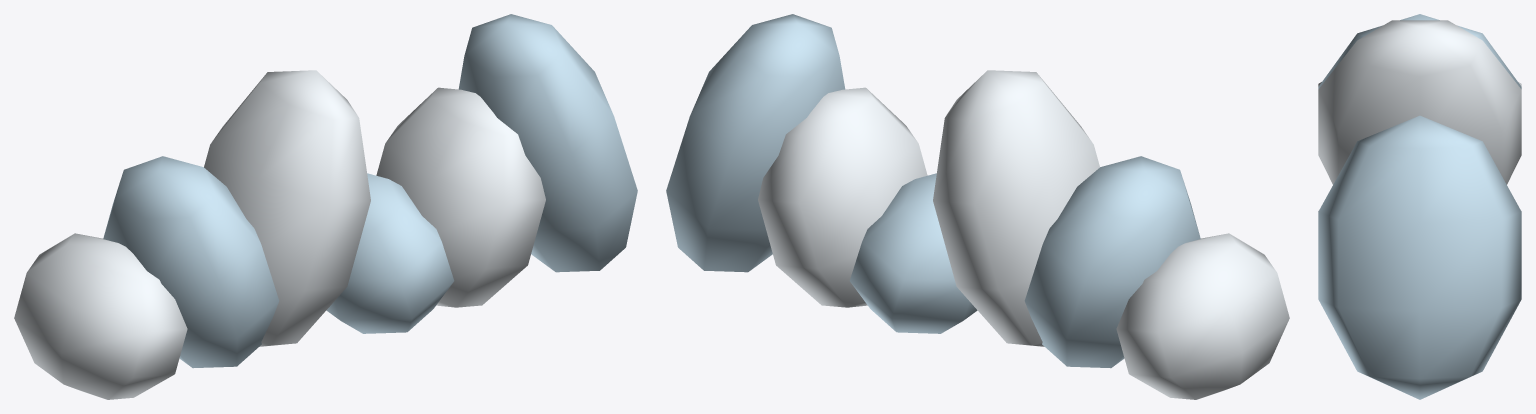
Rendered from polar-tundra-and-alpine-fauna-pressure-ridge-eb42de38__6085.glb.
3 renders of one model, left to right at view 1: azimuth 30°, elevation 25°; view 2: azimuth 150°, elevation 25°; view 3: azimuth 270°, elevation 25°, orthographic. The views are drawn at different scales.
Visible parts, largest first — view 1: pressure-ridge; view 2: pressure-ridge; view 3: pressure-ridge.
Boxes of the visible parts, box(x1,y1,x2,y2) form: pressure-ridge: box(14, 14, 637, 399); pressure-ridge: box(666, 14, 1289, 399); pressure-ridge: box(1318, 14, 1521, 399).
Size of the model in its own units: 3.4 by 1.47 by 1.08.
